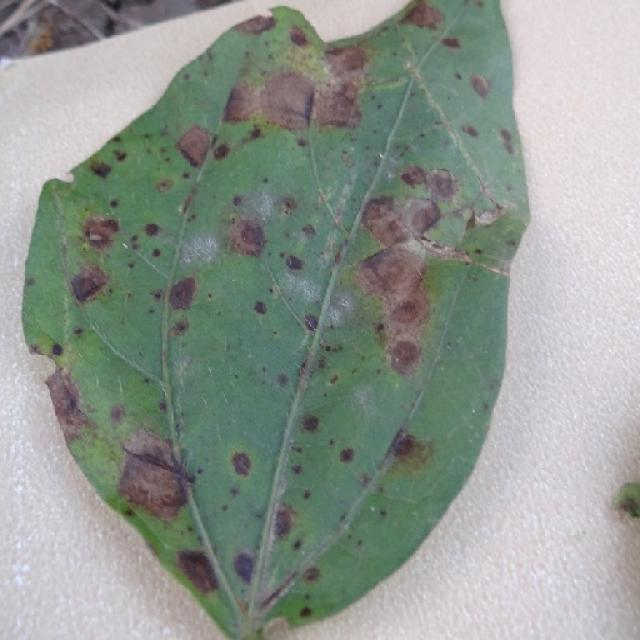Anthracnose: (313, 46, 371, 131), (120, 457, 186, 520), (361, 246, 426, 303), (44, 369, 91, 446), (120, 424, 181, 476), (358, 196, 414, 249), (395, 163, 456, 211), (261, 70, 315, 124), (176, 549, 221, 596), (164, 268, 207, 313), (400, 195, 442, 240), (228, 216, 268, 258), (322, 44, 368, 78), (81, 215, 121, 252), (176, 125, 211, 167), (70, 268, 109, 305), (398, 1, 444, 31), (388, 293, 426, 328), (389, 339, 422, 376), (232, 14, 273, 36), (398, 164, 430, 190), (391, 432, 418, 459), (232, 551, 255, 582), (273, 507, 294, 538), (263, 616, 290, 638), (180, 185, 199, 215), (231, 452, 252, 477), (470, 74, 490, 99), (90, 161, 113, 179), (499, 128, 514, 154), (300, 414, 320, 433), (463, 210, 479, 233), (289, 28, 309, 46), (171, 318, 190, 336), (280, 197, 297, 217), (109, 403, 125, 424), (212, 143, 230, 161), (285, 254, 304, 271), (155, 178, 174, 194), (339, 446, 356, 463), (440, 37, 461, 50), (303, 566, 320, 582), (304, 313, 319, 331), (144, 222, 160, 237), (301, 223, 316, 238), (253, 300, 267, 315), (113, 149, 128, 162), (465, 125, 479, 138), (51, 342, 64, 356), (277, 372, 289, 387), (250, 126, 263, 139), (299, 606, 312, 618), (232, 195, 243, 207), (291, 464, 302, 476), (152, 290, 163, 301), (328, 374, 339, 385), (229, 486, 240, 497), (292, 538, 302, 550), (375, 322, 385, 333), (25, 276, 35, 287), (123, 507, 134, 517), (109, 199, 119, 209), (302, 489, 311, 500), (152, 248, 161, 258), (454, 72, 463, 81), (474, 248, 483, 255)
Blackgram: (22, 0, 528, 639)
